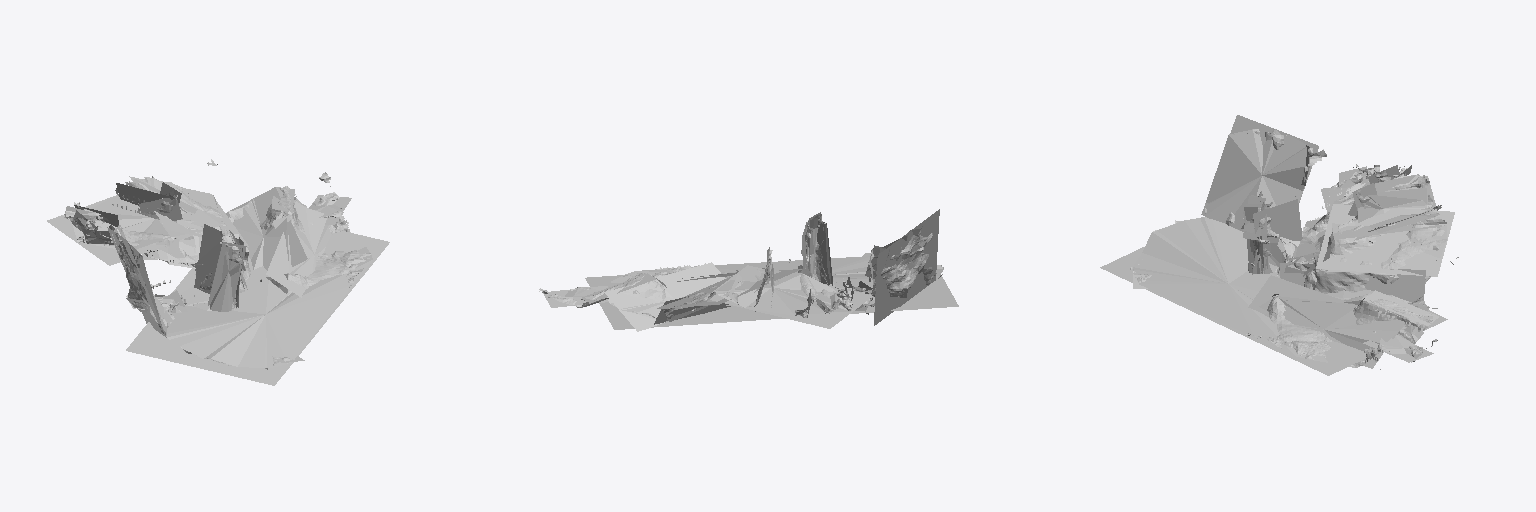
The model's file is Model_cld.obj.
3 renders of one model, left to right at view 1: azimuth 30°, elevation 25°; view 2: azimuth 150°, elevation 25°; view 3: azimuth 270°, elevation 25°, orthographic.
Parts seen in each view (by area): view 1: PlaneConvexCollider_Horizontal_Area_11.072082_Normal_-0.114707_0, PlaneBBCollider_Horizontal_Area_15.509670_Normal_-0.114707_0.988, PlaneConvexCollider_Horizontal_Area_3.101039_Normal_0.032795_0.9, PlaneBBCollider_Horizontal_Area_4.167000_Normal_0.032795_0.99248, PlaneBBCollider_Horizontal_Area_2.350196_Normal_0.326005_0.94532, PlaneConvexCollider_Area_2.230654_Normal_-0.371582_0.852689_0.36, PlaneConvexCollider_Horizontal_Area_1.604606_Normal_0.326005_0.9, PlaneBBCollider_Area_2.994699_Normal_-0.371582_0.852689_0.367218, PlaneMeshCollider_Horizontal_Area_11.072082_Normal_-0.114707_0.9, PlaneBBCollider_Area_3.222711_Normal_-0.427909_0.900964_0.071815, PlaneConvexCollider_Vertical_Area_0.461281_Normal_0.501460_0.083, PlaneBBCollider_Vertical_Area_0.524102_Normal_0.501460_0.083558_ (+6 smaller); view 2: PlaneBBCollider_Horizontal_Area_15.509670_Normal_-0.114707_0.988, PlaneConvexCollider_Horizontal_Area_3.101039_Normal_0.032795_0.9, PlaneBBCollider_Area_2.690819_Normal_-0.918047_0.285673_0.274922, PlaneBBCollider_Horizontal_Area_2.350196_Normal_0.326005_0.94532, PlaneConvexCollider_Horizontal_Area_11.072082_Normal_-0.114707_0, PlaneBBCollider_Horizontal_Area_4.167000_Normal_0.032795_0.99248, PlaneMeshCollider_Area_2.277465_Normal_-0.918047_0.285673_0.2749, PlaneBBCollider_Area_3.222711_Normal_-0.427909_0.900964_0.071815, PlaneConvexCollider_Horizontal_Area_1.604606_Normal_0.326005_0.9; view 3: PlaneConvexCollider_Horizontal_Area_11.072082_Normal_-0.114707_0, PlaneConvexCollider_Area_2.277465_Normal_-0.918047_0.285673_0.27, PlaneBBCollider_Area_3.222711_Normal_-0.427909_0.900964_0.071815, PlaneConvexCollider_Area_2.230654_Normal_-0.371582_0.852689_0.36, PlaneBBCollider_Horizontal_Area_15.509670_Normal_-0.114707_0.988, PlaneBBCollider_Area_2.994699_Normal_-0.371582_0.852689_0.367218, PlaneMeshCollider_Area_2.647351_Normal_-0.427909_0.900964_0.0718, PlaneBBCollider_Area_1.443627_Normal_-0.896280_0.298327_0.328153, PlaneBBCollider_Area_1.004426_Normal_-0.793786_0.236943_-0.56014, PlaneMeshCollider_Horizontal_Area_11.072082_Normal_-0.114707_0.9, PlaneMeshCollider_Area_1.118169_Normal_-0.896280_0.298327_0.3281, PlaneBBCollider_Horizontal_Area_4.167000_Normal_0.032795_0.99248 (+6 smaller).
Part boxes in pixels (left/top/right/bottom): PlaneConvexCollider_Horizontal_Area_11.072082_Normal_-0.114707_0: left=166, top=247, right=372, bottom=368; PlaneBBCollider_Horizontal_Area_15.509670_Normal_-0.114707_0.988: left=126, top=231, right=389, bottom=385; PlaneConvexCollider_Horizontal_Area_3.101039_Normal_0.032795_0.9: left=72, top=177, right=202, bottom=248; PlaneBBCollider_Horizontal_Area_4.167000_Normal_0.032795_0.99248: left=47, top=180, right=220, bottom=265; PlaneBBCollider_Horizontal_Area_2.350196_Normal_0.326005_0.94532: left=226, top=187, right=307, bottom=270; PlaneConvexCollider_Area_2.230654_Normal_-0.371582_0.852689_0.36: left=288, top=204, right=331, bottom=290; PlaneConvexCollider_Horizontal_Area_1.604606_Normal_0.326005_0.9: left=233, top=199, right=286, bottom=269; PlaneBBCollider_Area_2.994699_Normal_-0.371582_0.852689_0.367218: left=266, top=201, right=325, bottom=297; PlaneMeshCollider_Horizontal_Area_11.072082_Normal_-0.114707_0.9: left=181, top=250, right=370, bottom=368; PlaneBBCollider_Area_3.222711_Normal_-0.427909_0.900964_0.071815: left=129, top=176, right=248, bottom=246; PlaneConvexCollider_Vertical_Area_0.461281_Normal_0.501460_0.083: left=208, top=245, right=239, bottom=311; PlaneBBCollider_Vertical_Area_0.524102_Normal_0.501460_0.083558_: left=208, top=242, right=246, bottom=305; PlaneBBCollider_Horizontal_Area_15.509670_Normal_-0.114707_0.988: left=585, top=275, right=958, bottom=329; PlaneConvexCollider_Horizontal_Area_3.101039_Normal_0.032795_0.9: left=715, top=269, right=852, bottom=315; PlaneBBCollider_Area_2.690819_Normal_-0.918047_0.285673_0.274922: left=874, top=209, right=939, bottom=325; PlaneBBCollider_Horizontal_Area_2.350196_Normal_0.326005_0.94532: left=604, top=262, right=725, bottom=331; PlaneConvexCollider_Horizontal_Area_11.072082_Normal_-0.114707_0: left=611, top=256, right=943, bottom=306; PlaneBBCollider_Horizontal_Area_4.167000_Normal_0.032795_0.99248: left=704, top=265, right=872, bottom=328; PlaneMeshCollider_Area_2.277465_Normal_-0.918047_0.285673_0.2749: left=873, top=230, right=935, bottom=296; PlaneBBCollider_Area_3.222711_Normal_-0.427909_0.900964_0.071815: left=657, top=269, right=801, bottom=308; PlaneConvexCollider_Horizontal_Area_1.604606_Normal_0.326005_0.9: left=608, top=277, right=677, bottom=319; PlaneConvexCollider_Horizontal_Area_11.072082_Normal_-0.114707_0: left=1133, top=217, right=1357, bottom=367; PlaneConvexCollider_Area_2.277465_Normal_-0.918047_0.285673_0.27: left=1205, top=129, right=1309, bottom=231; PlaneBBCollider_Area_3.222711_Normal_-0.427909_0.900964_0.071815: left=1316, top=204, right=1454, bottom=276; PlaneConvexCollider_Area_2.230654_Normal_-0.371582_0.852689_0.36: left=1259, top=296, right=1405, bottom=365; PlaneBBCollider_Horizontal_Area_15.509670_Normal_-0.114707_0.988: left=1100, top=247, right=1447, bottom=375; PlaneBBCollider_Area_2.994699_Normal_-0.371582_0.852689_0.367218: left=1248, top=275, right=1404, bottom=368; PlaneMeshCollider_Area_2.647351_Normal_-0.427909_0.900964_0.0718: left=1324, top=220, right=1446, bottom=277; PlaneBBCollider_Area_1.443627_Normal_-0.896280_0.298327_0.328153: left=1280, top=263, right=1425, bottom=301; PlaneBBCollider_Area_1.004426_Normal_-0.793786_0.236943_-0.56014: left=1253, top=199, right=1302, bottom=273; PlaneMeshCollider_Horizontal_Area_11.072082_Normal_-0.114707_0.9: left=1133, top=231, right=1352, bottom=365; PlaneMeshCollider_Area_1.118169_Normal_-0.896280_0.298327_0.3281: left=1295, top=264, right=1396, bottom=293; PlaneBBCollider_Horizontal_Area_4.167000_Normal_0.032795_0.99248: left=1321, top=176, right=1441, bottom=239.
Size of the model in its own units: 6.2 by 2.51 by 6.01.